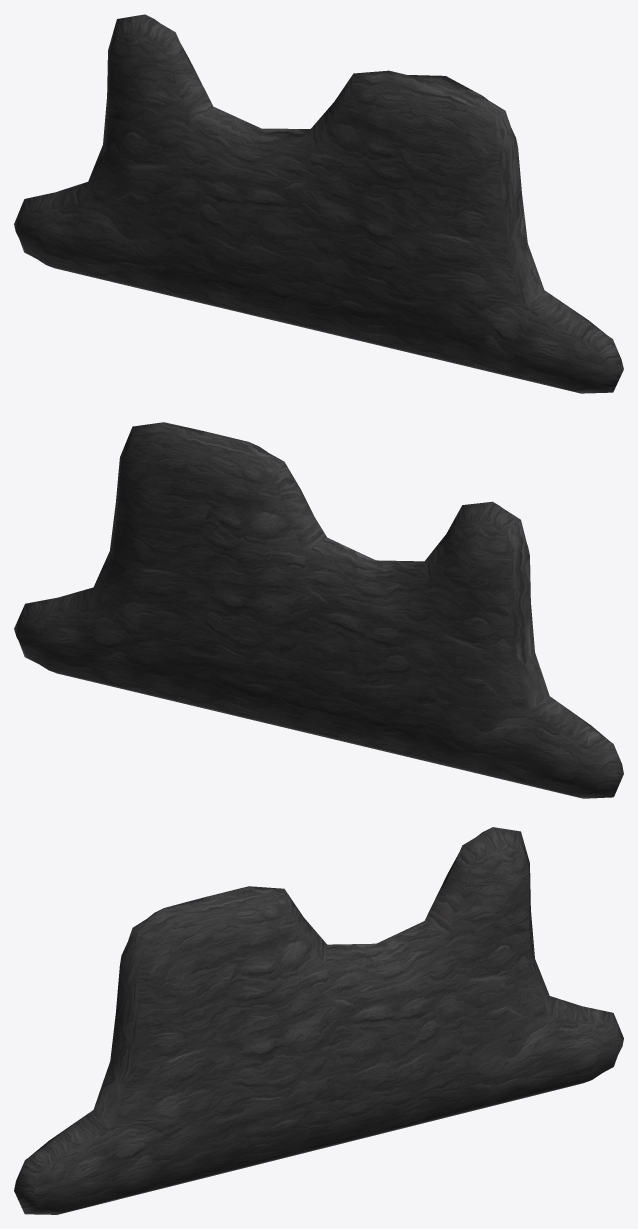
The model's file is RuinWallOne4Shape.dae.
3 renders of one model, top to bottom at view 1: azimuth 30°, elevation 25°; view 2: azimuth 210°, elevation 25°; view 3: azimuth 270°, elevation 25°, orthographic.
Parts seen in each view (by area): view 1: RuinWallOne4; view 2: RuinWallOne4; view 3: RuinWallOne4.
Part boxes in pixels (x1=…): RuinWallOne4: x1=14, y1=14, x2=623, y2=393; RuinWallOne4: x1=14, y1=422, x2=623, y2=798; RuinWallOne4: x1=14, y1=827, x2=623, y2=1214.
Size of the model in its own units: 22.88 by 18.73 by 36.88.
